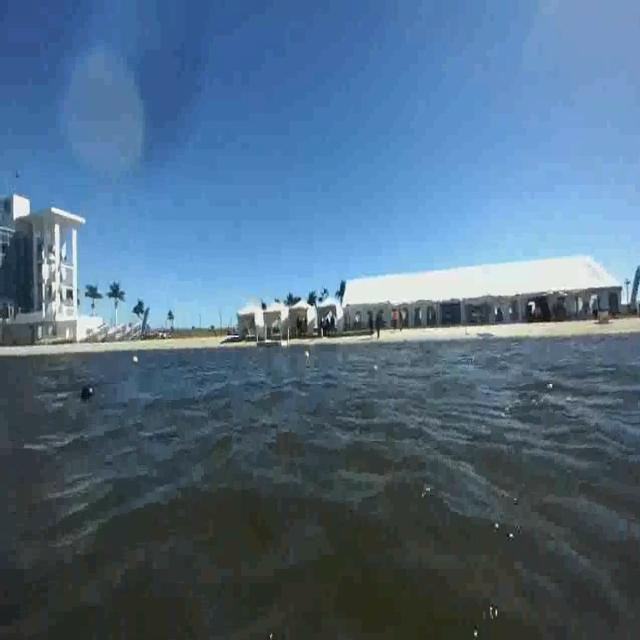black-buoy: (80, 382, 96, 402)
